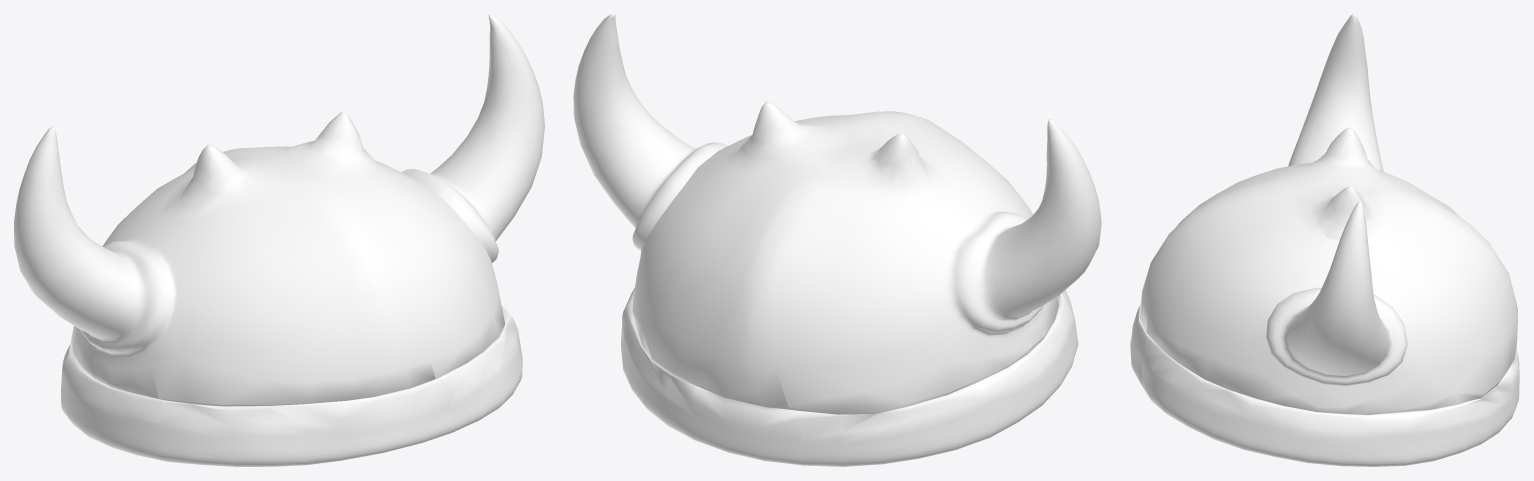
The model's file is Viking-Helmet-Silver.glb.
3 renders of one model, left to right at view 1: azimuth 30°, elevation 25°; view 2: azimuth 150°, elevation 25°; view 3: azimuth 270°, elevation 25°, orthographic. The views are drawn at different scales.
Visible parts, largest first — view 1: Viking-Helmet-Silver; view 2: Viking-Helmet-Silver; view 3: Viking-Helmet-Silver.
Boxes of the visible parts, x1,y1,x2,y2 form: Viking-Helmet-Silver: (14, 14, 544, 466); Viking-Helmet-Silver: (573, 14, 1101, 466); Viking-Helmet-Silver: (1130, 14, 1519, 466).
Size of the model in its own units: 0.5905 by 0.3584 by 0.4313.
Materials: 1 (1 with a texture image).
